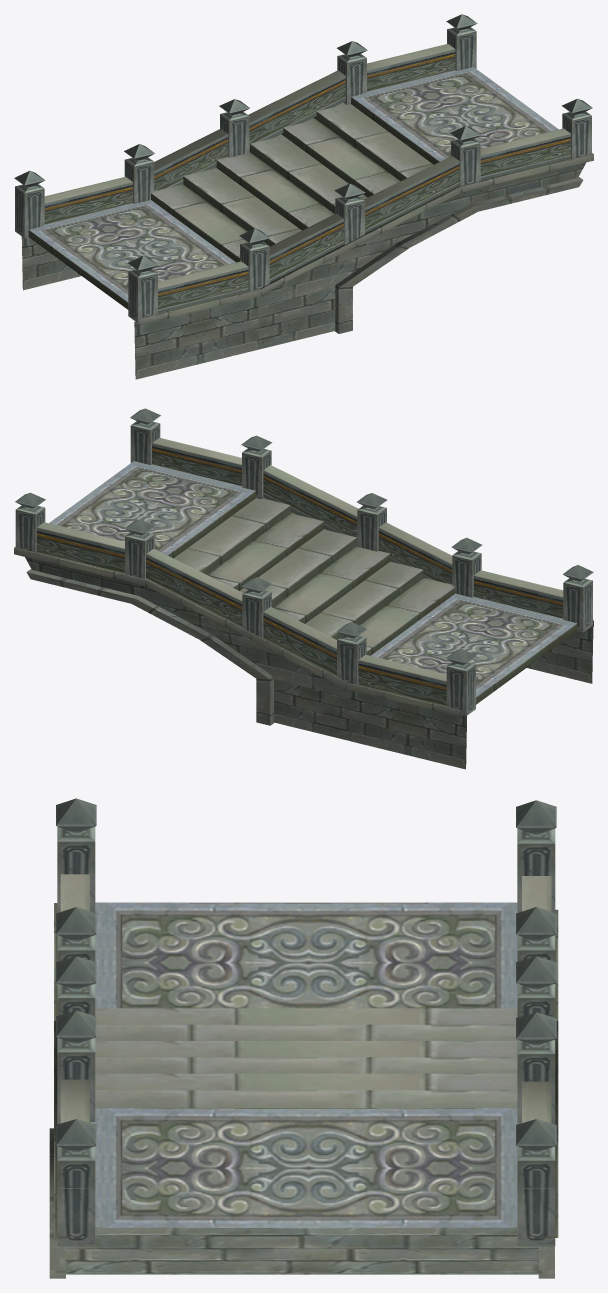
The model's file is suzhoucheng_building_qiao02.FBX.
3 views of the same model, one above another, from view 1: azimuth 30°, elevation 25°; view 2: azimuth 150°, elevation 25°; view 3: azimuth 270°, elevation 25° (orthographic). The views are drawn at different scales.
Visible parts, largest first — view 1: suzhoucheng_building_qiao02; view 2: suzhoucheng_building_qiao02; view 3: suzhoucheng_building_qiao02.
Part boxes in pixels (x1,y1,x2,y2): suzhoucheng_building_qiao02: (14,14,593,379); suzhoucheng_building_qiao02: (14,408,593,769); suzhoucheng_building_qiao02: (49,798,558,1278).
Bounding box in the file's own units: 540 × 193 × 261.
